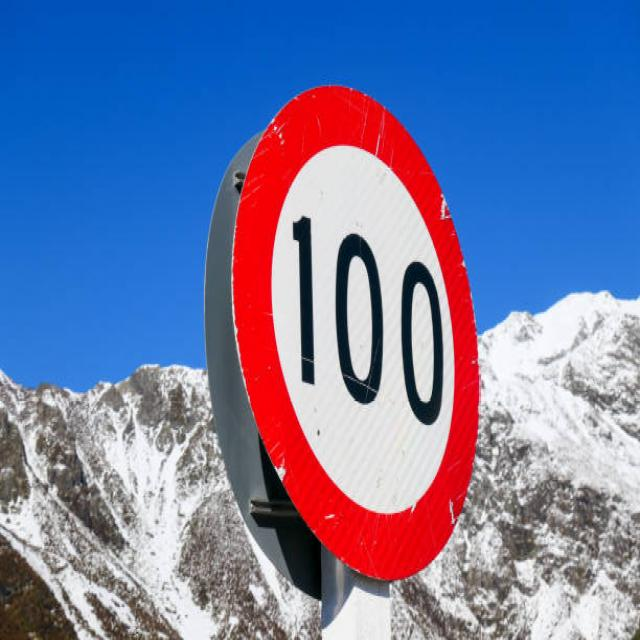speed_limit_100: (234, 77, 502, 591)
